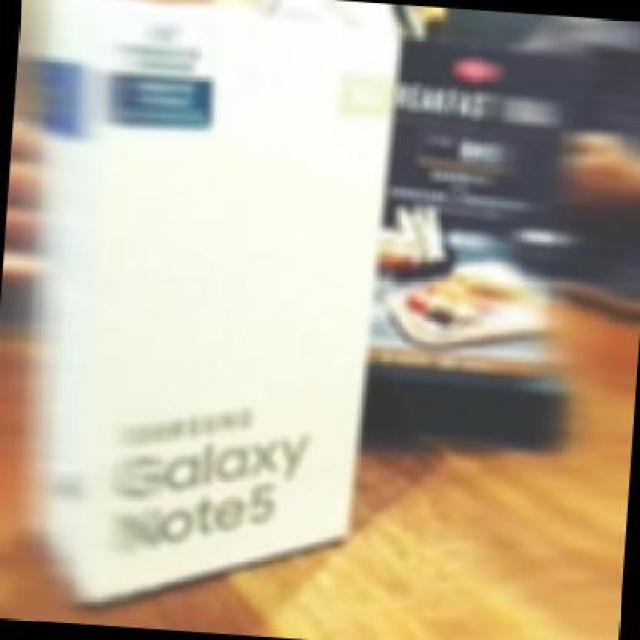box: (0, 0, 425, 622)
